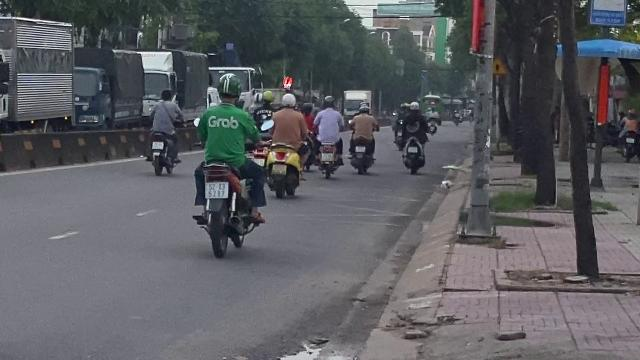helmet: (214, 74, 242, 102), (280, 93, 296, 110)
licenseplate: (205, 181, 227, 197), (272, 164, 286, 174)
motorcyclist: (187, 72, 267, 255), (264, 92, 308, 198)
